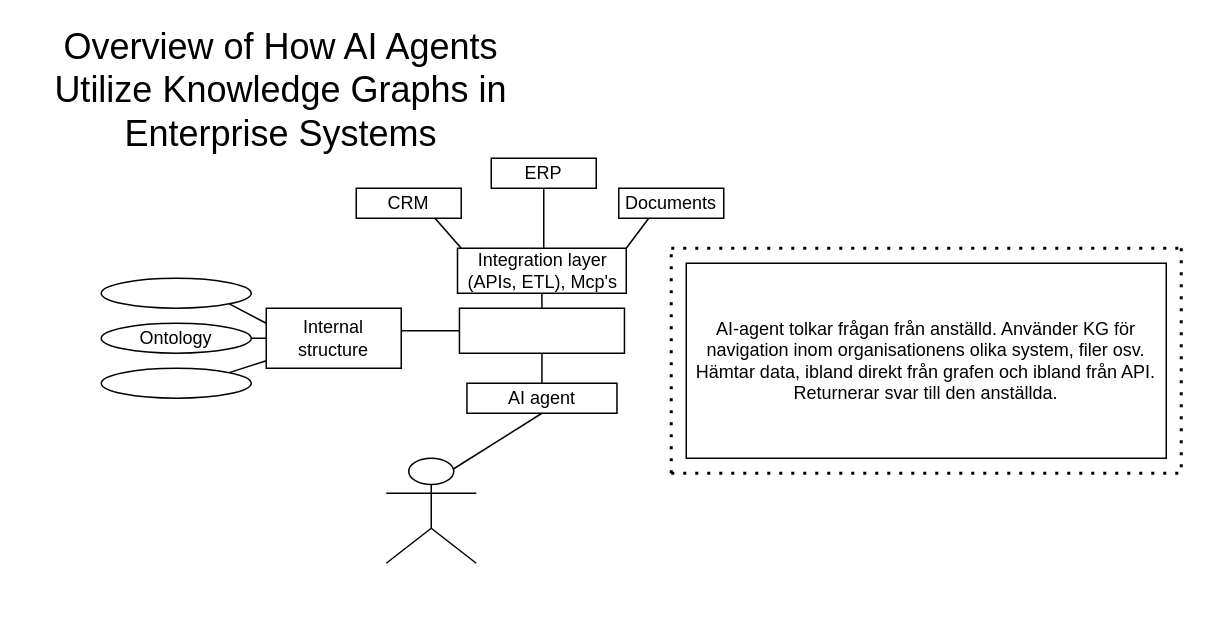
Some shapes in this 1209 by 620 pixel diagram are drawn without their labels. Each missing label, with the box of its shape:
Employee: (385, 457, 476, 563)
Entities: (100, 367, 251, 398)
Knowledge graph: (458, 307, 624, 353)
Relationships: (100, 277, 251, 308)
